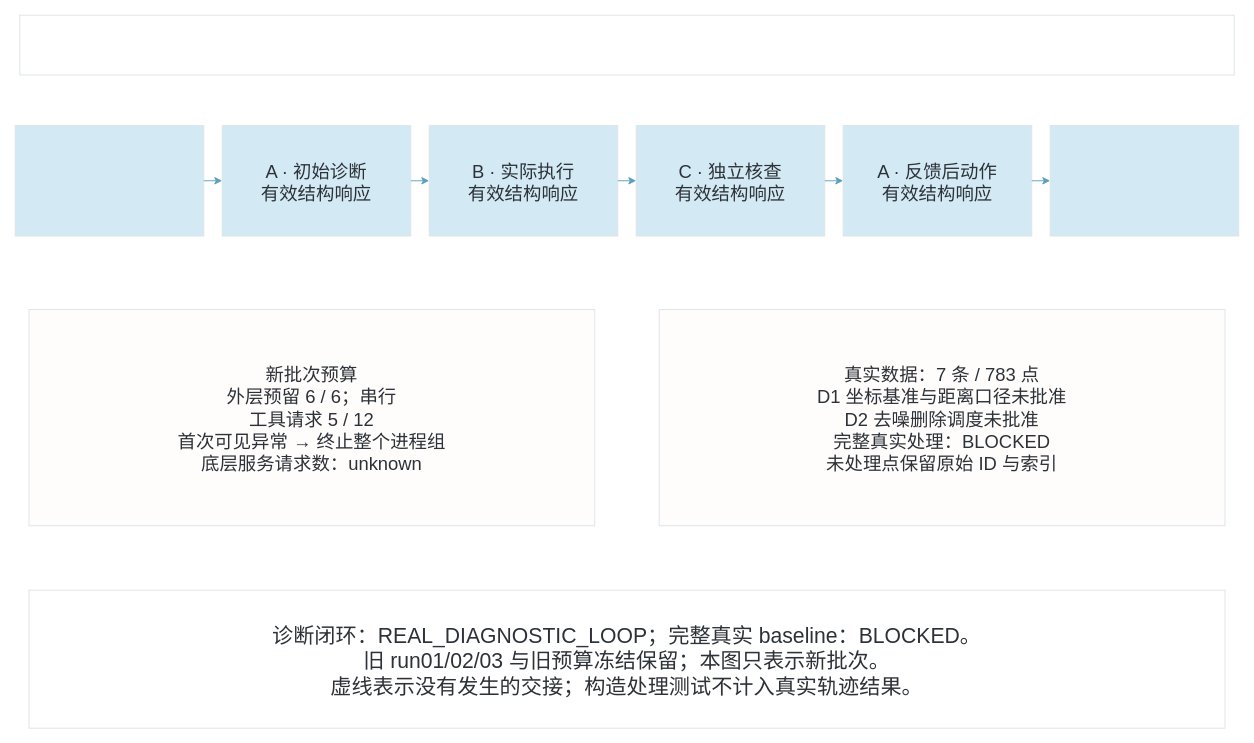
Image size: 1254x743. Some labels were removed from this diagram. Each missing label, with the centre of its shape:
"C · 再次核查 有效结构响应" goes at point (1144, 180).
"Goal 1 定向修复 · 本批实际调用与处理边界" goes at point (626, 44).
"连通性探针 有效结构响应" goes at point (109, 180).
